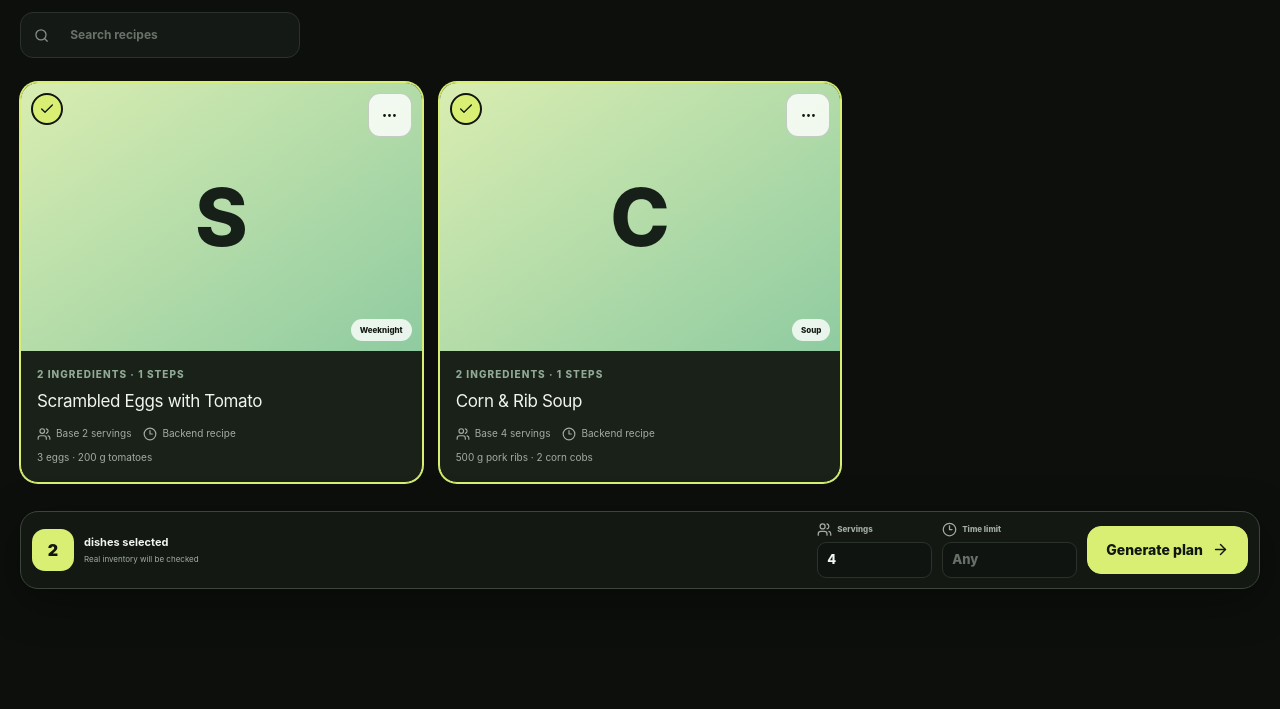
cook mode selection page › opens an equivalent READY plan returned immediately by automatic reuse
(page scrolled)
Expected: the heading "Scrambled Eggs with Tomato" is shown, [37,390,262,410]
Click the button "Generate plan" at (1168, 550), box [1087,526,1248,574]
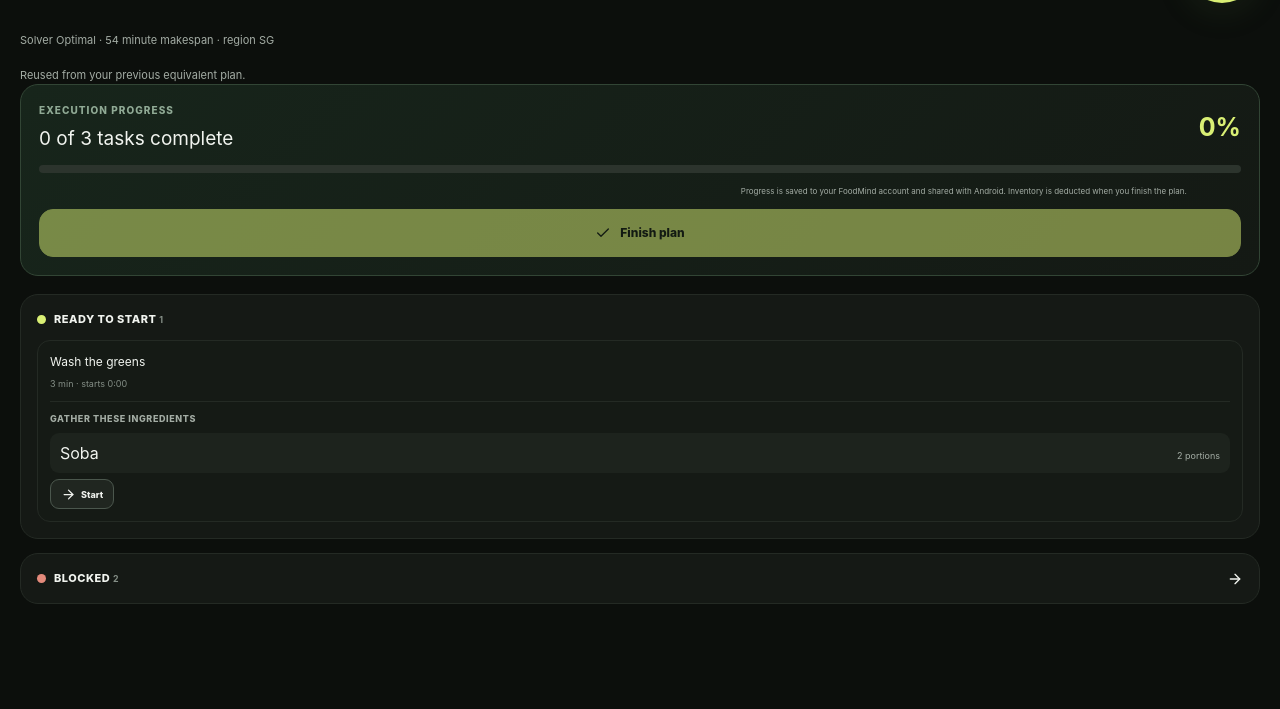
Now the text "Reused from your previous equivalent plan." is shown, box [20,68,245,82]
